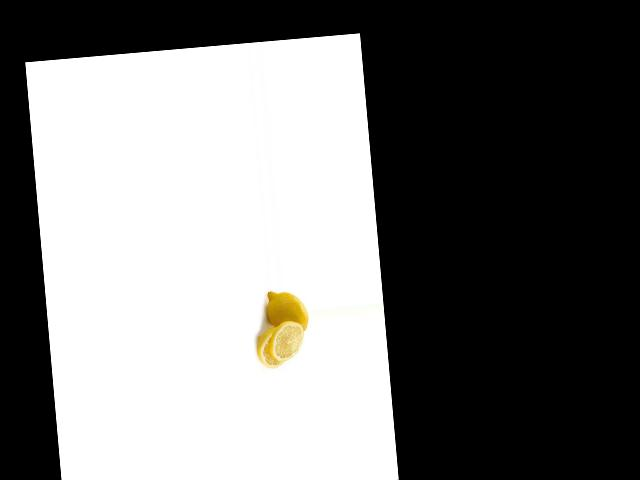lemon: (261, 283, 310, 337)
